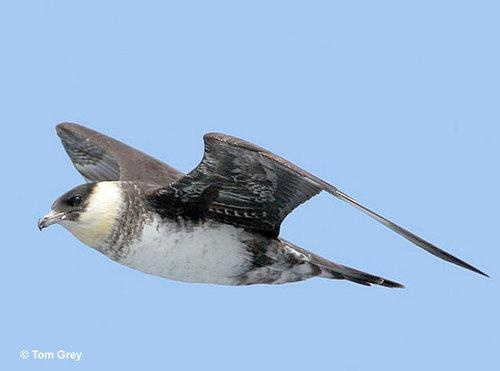bird: (37, 118, 492, 294)
